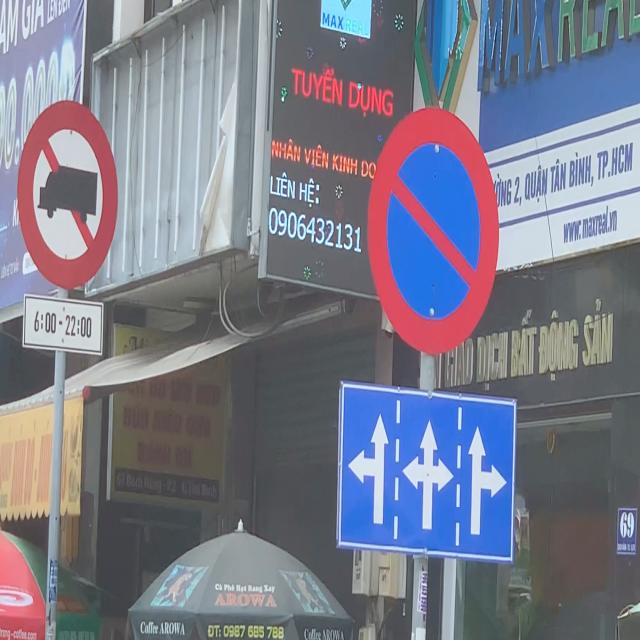Cam con lai: (17, 99, 118, 290)
Cam do: (367, 106, 500, 356)
